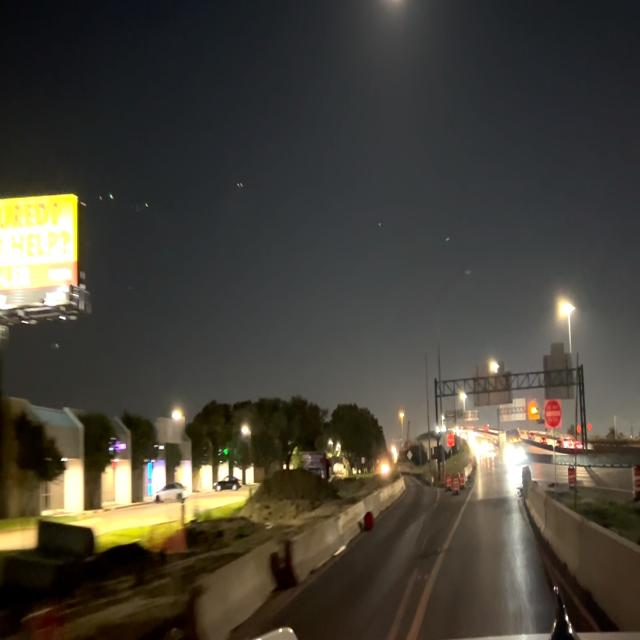back-of-sign: (540, 336, 578, 404), (470, 356, 514, 409)
